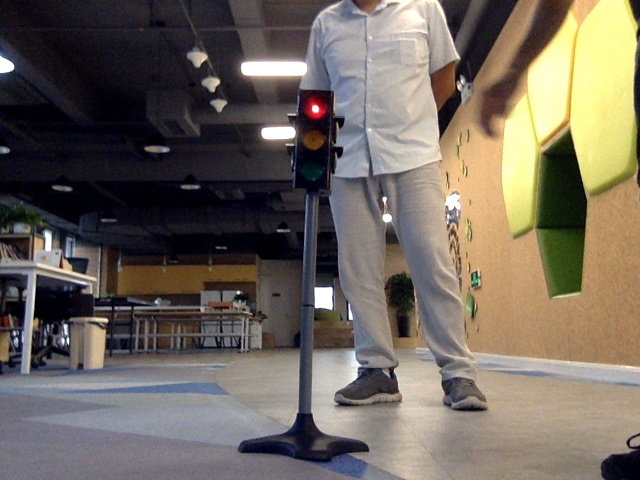red: (296, 95, 329, 184)
